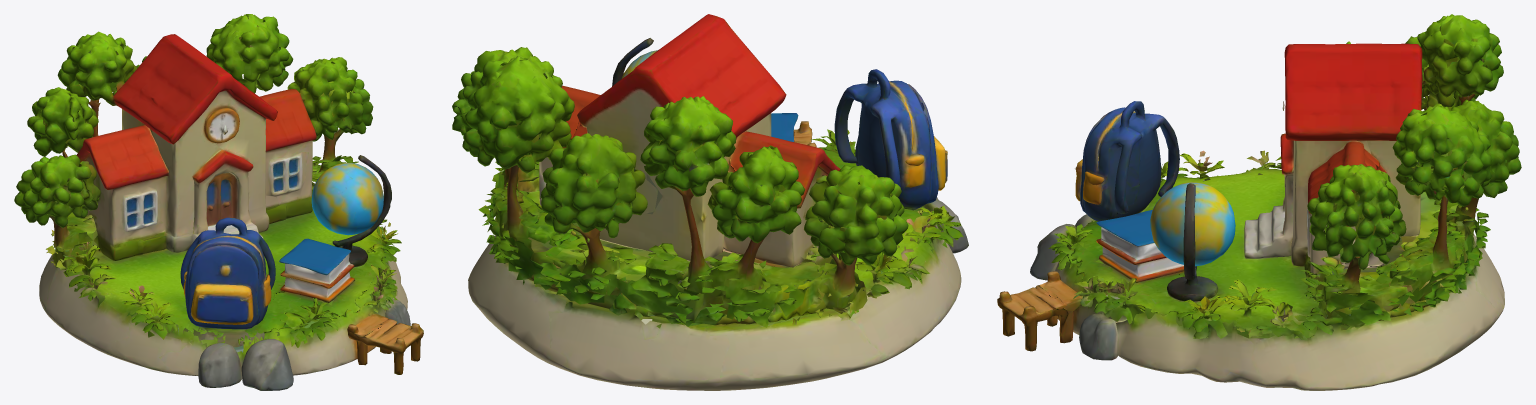
The model's file is isl-16.glb.
3 views of the same model, side by side, from view 1: azimuth 30°, elevation 25°; view 2: azimuth 150°, elevation 25°; view 3: azimuth 270°, elevation 25° (orthographic). The views are drawn at different scales.
Visible parts, largest first — view 1: world; view 2: world; view 3: world.
Part boxes in pixels (box(x1,y1,x2,y2)): world: box(14, 14, 423, 390); world: box(452, 14, 968, 390); world: box(997, 14, 1521, 390).
Size of the model in its own units: 0.8719 by 0.5456 by 0.9973.
Materials: 1 (1 with a texture image).
